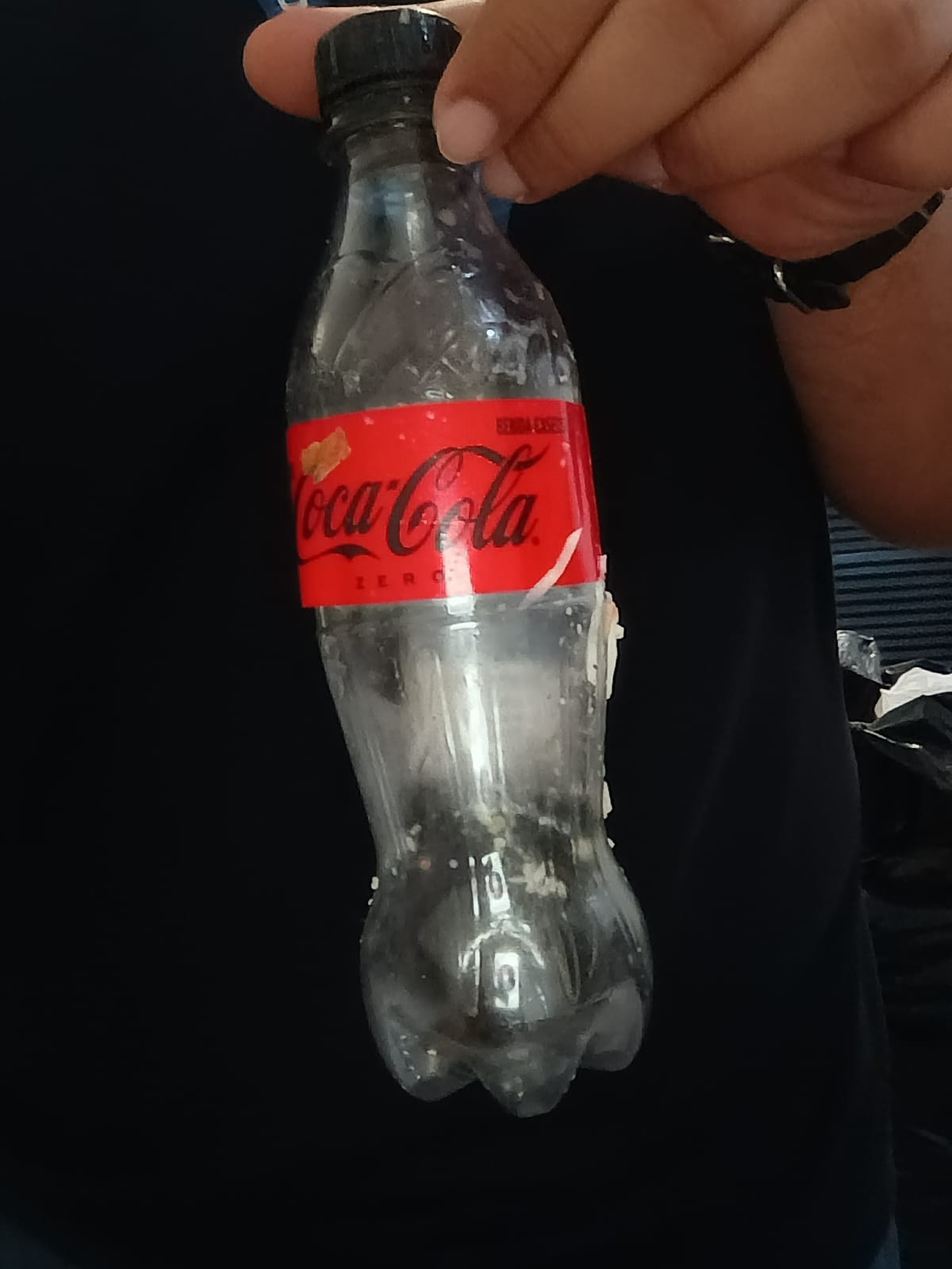Plastico: (287, 11, 655, 1117)
